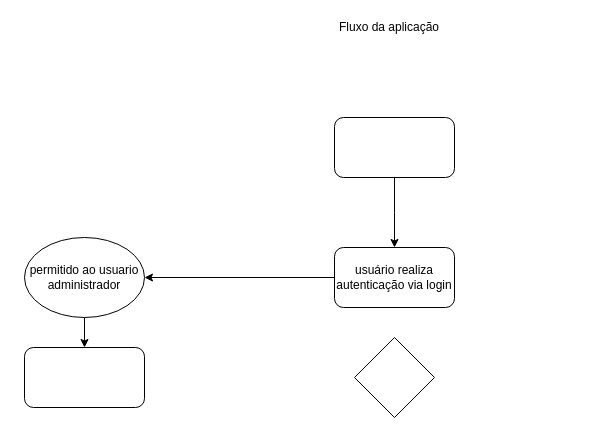
Image size: 612x435. Some labels were removed from this diagram. Each missing label, with the centre of its shape:
formulário que irá gerar um novo usuário: the point at 84,377
View de Login do sistema: the point at 394,147
